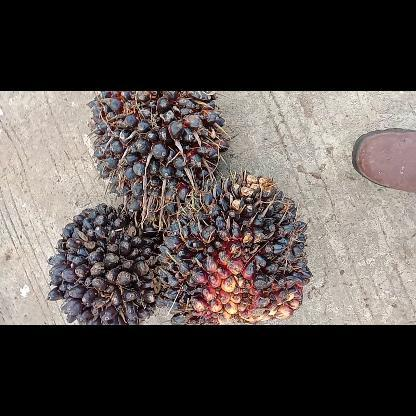TBS mentah: (154, 168, 318, 324), (82, 91, 232, 219), (43, 198, 167, 324)
